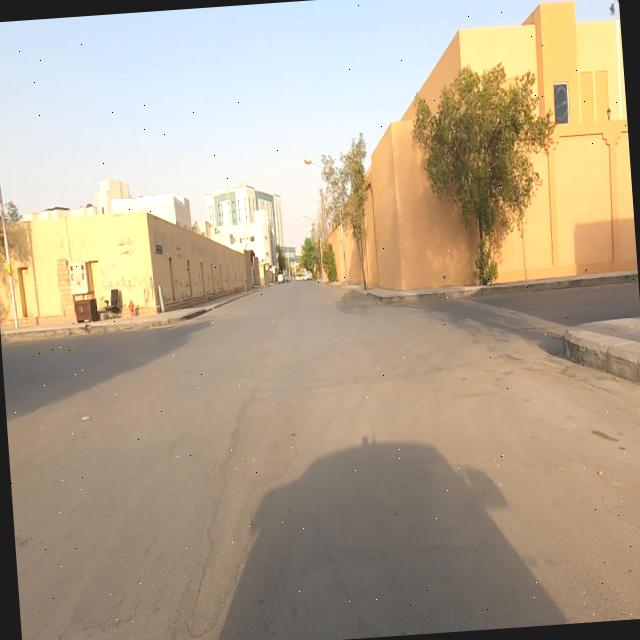Graffiti: (121, 275, 157, 304), (119, 236, 136, 257), (100, 266, 114, 290), (175, 280, 190, 293)
